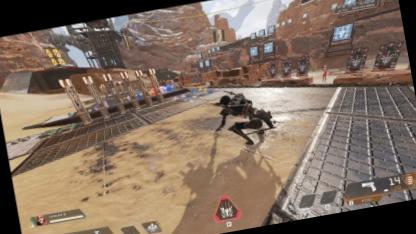Target: (210, 86, 276, 148)
